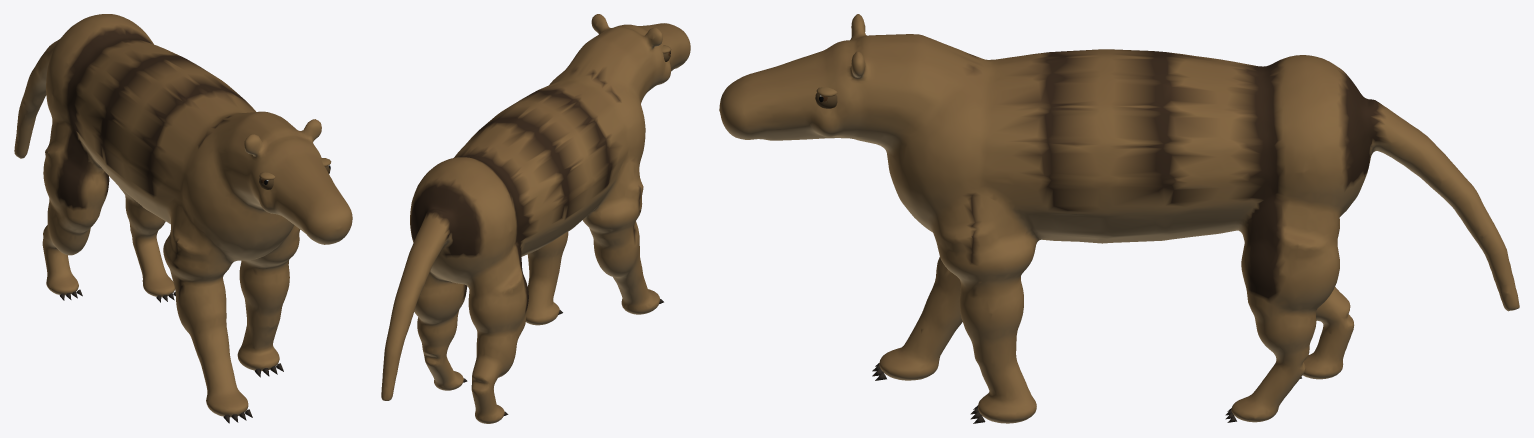
Rendered from ThylacoleoCarnifex.fbx.
3 views of the same model, side by side, from view 1: azimuth 30°, elevation 25°; view 2: azimuth 150°, elevation 25°; view 3: azimuth 270°, elevation 25° (orthographic). The views are drawn at different scales.
Visible parts, largest first — view 1: ThylacoleoCarnifex; view 2: ThylacoleoCarnifex; view 3: ThylacoleoCarnifex.
Part boxes in pixels (x1=…): ThylacoleoCarnifex: x1=14, y1=14, x2=352, y2=423; ThylacoleoCarnifex: x1=381, y1=14, x2=690, y2=423; ThylacoleoCarnifex: x1=719, y1=14, x2=1519, y2=423.
Bounding box in the file's own units: 0.3909 × 0.8846 × 1.76.
